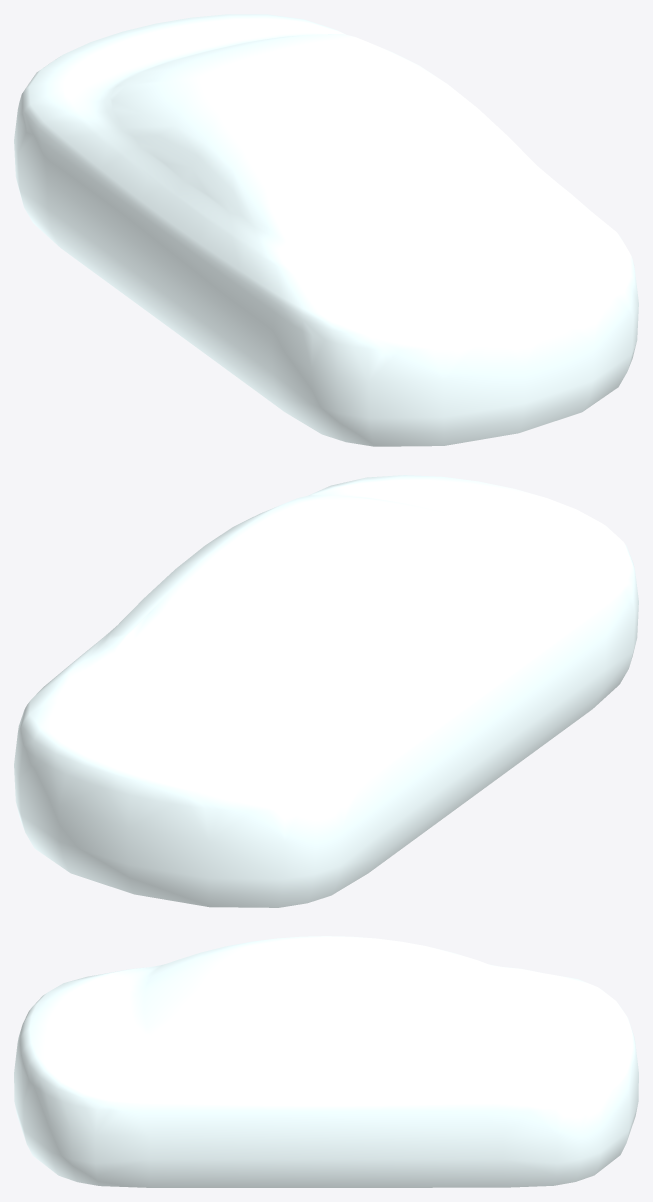
The model's file is car.glb.
The picture shows the model from 3 angles, top to bottom: view 1: azimuth 30°, elevation 25°; view 2: azimuth 150°, elevation 25°; view 3: azimuth 270°, elevation 25°; orthographic projection. The views are drawn at different scales.
Parts seen in each view (by area): view 1: vehicle; view 2: vehicle; view 3: vehicle.
Part boxes in pixels (x1,y1,x2,y2): vehicle: (14,14,638,446); vehicle: (14,475,638,907); vehicle: (14,936,638,1187).
Size of the model in its own units: 2.11 by 1.26 by 4.33.
